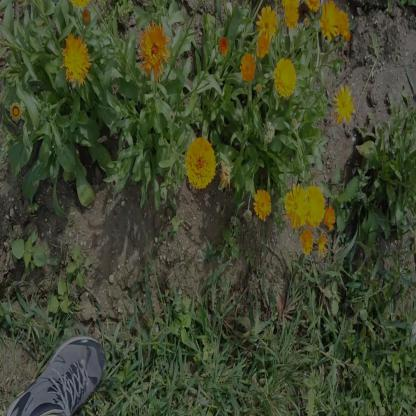marigold: (138, 24, 171, 82), (185, 136, 215, 188), (59, 37, 88, 83), (274, 58, 297, 98), (285, 186, 307, 226), (256, 4, 278, 41), (320, 0, 338, 42), (334, 84, 355, 119), (307, 187, 324, 225), (255, 189, 273, 221), (283, 0, 300, 30), (240, 52, 256, 83), (335, 6, 350, 38), (256, 29, 272, 59), (324, 204, 336, 231), (301, 229, 313, 254)
